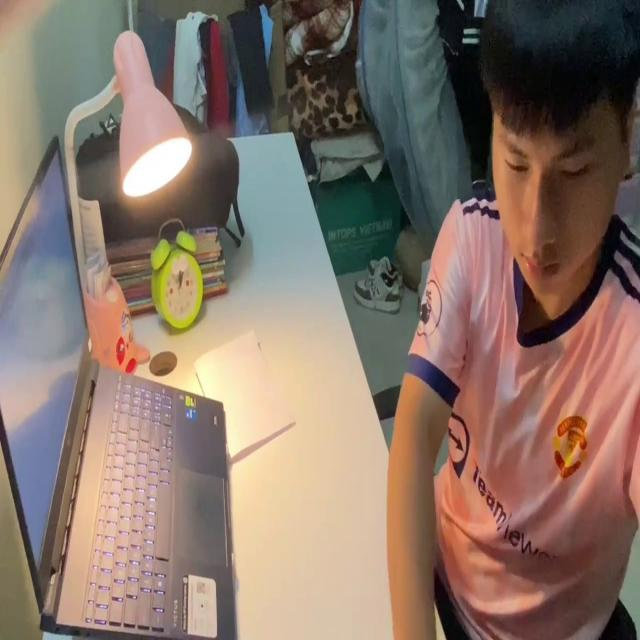laptop: (1, 128, 238, 640)
student: (384, 0, 640, 640)
